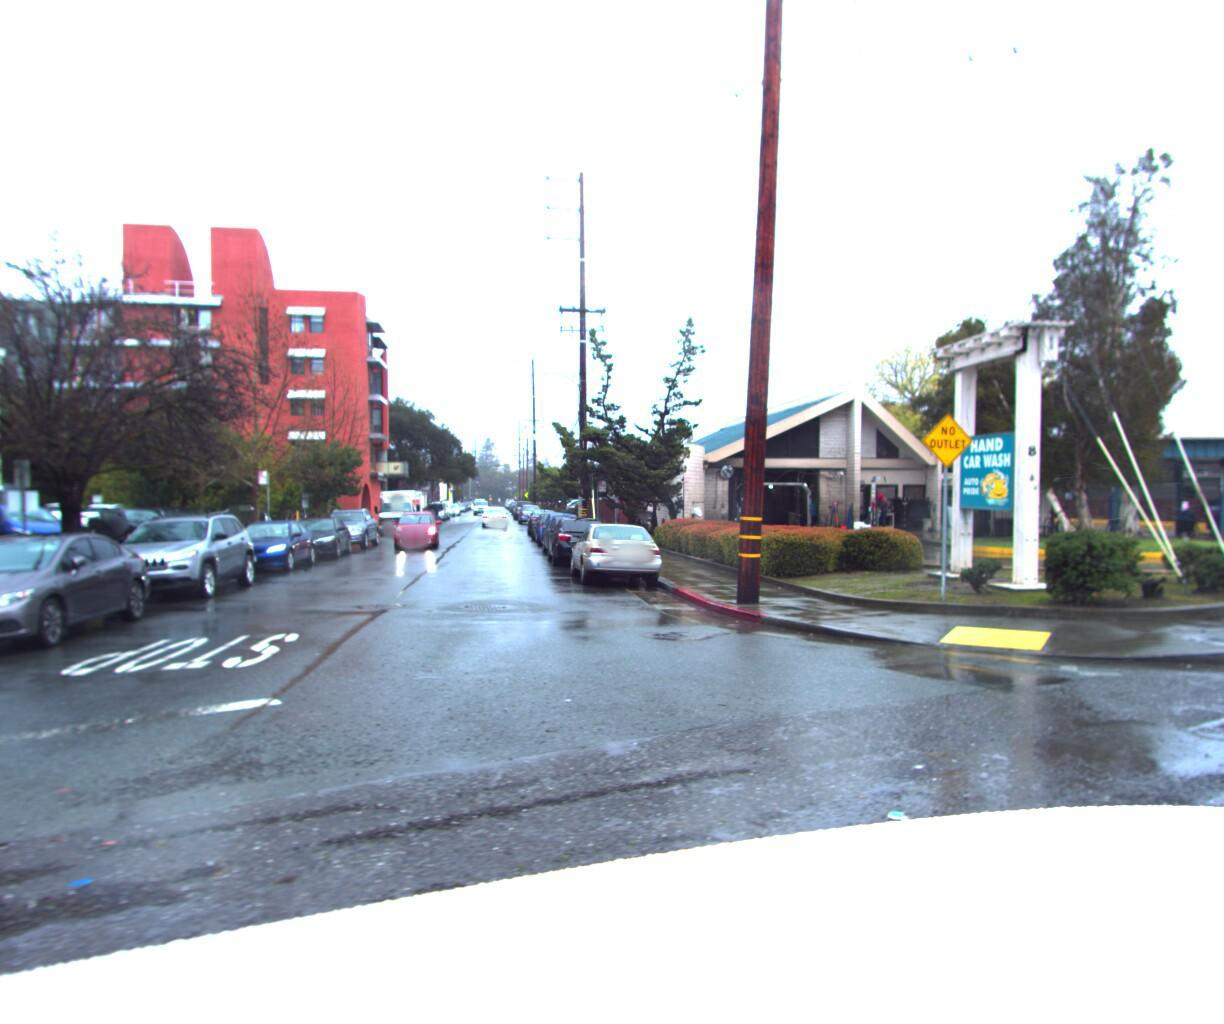bicycle: (1028, 498, 1085, 533)
car: (0, 524, 160, 678), (78, 511, 258, 611), (566, 515, 672, 593), (209, 516, 323, 583), (77, 506, 192, 555), (0, 503, 89, 564), (274, 511, 358, 564), (546, 514, 616, 571), (386, 507, 441, 568), (311, 506, 380, 551), (539, 514, 602, 560), (540, 507, 586, 548), (528, 508, 577, 542), (526, 506, 562, 534), (1205, 491, 1224, 533), (480, 507, 509, 530), (417, 501, 442, 522), (516, 502, 543, 522)
truck: (368, 488, 423, 532)
